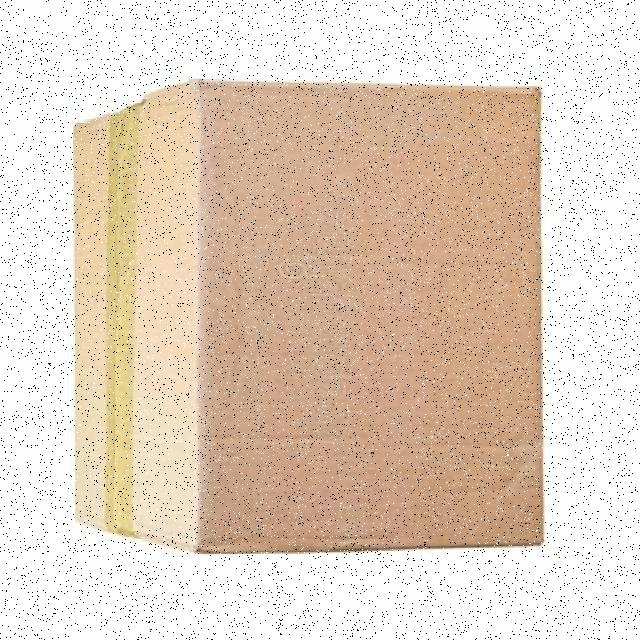normal: (55, 63, 577, 566)
